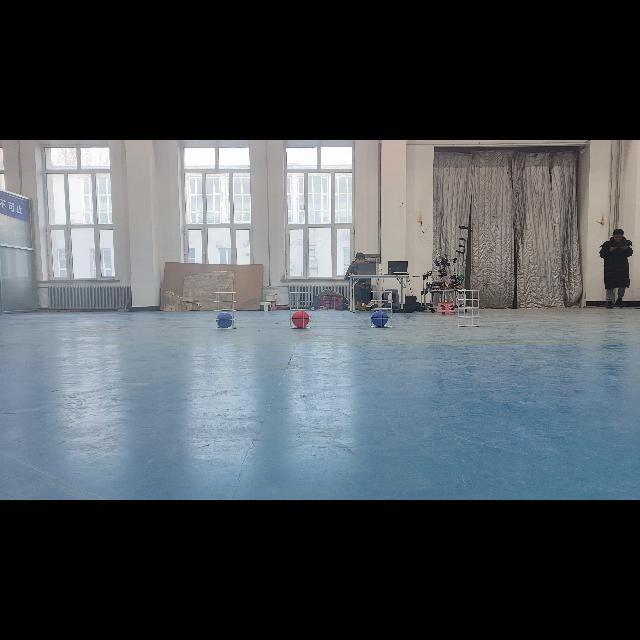B: (370, 310, 388, 328), (217, 312, 233, 328)
R: (292, 310, 310, 328)
S: (455, 288, 483, 330), (368, 288, 394, 332), (212, 289, 238, 331), (288, 289, 314, 331)
